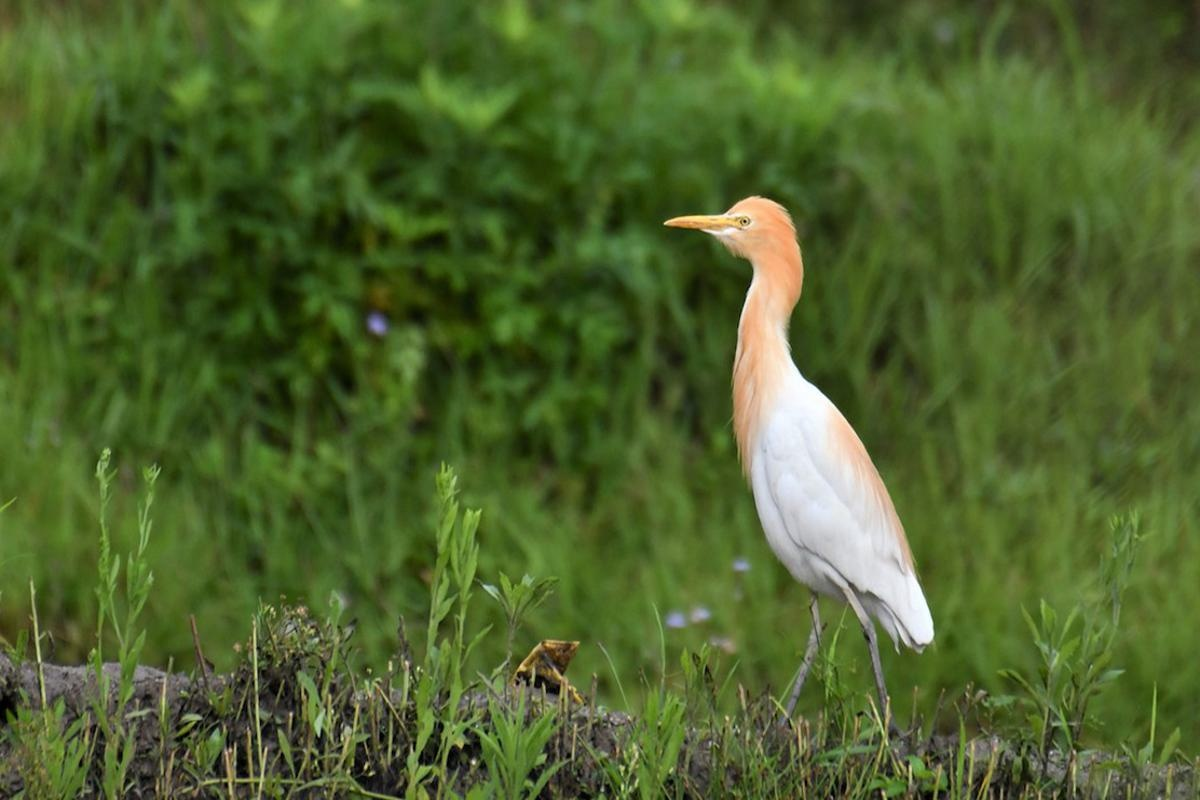egret: (643, 182, 967, 731)
